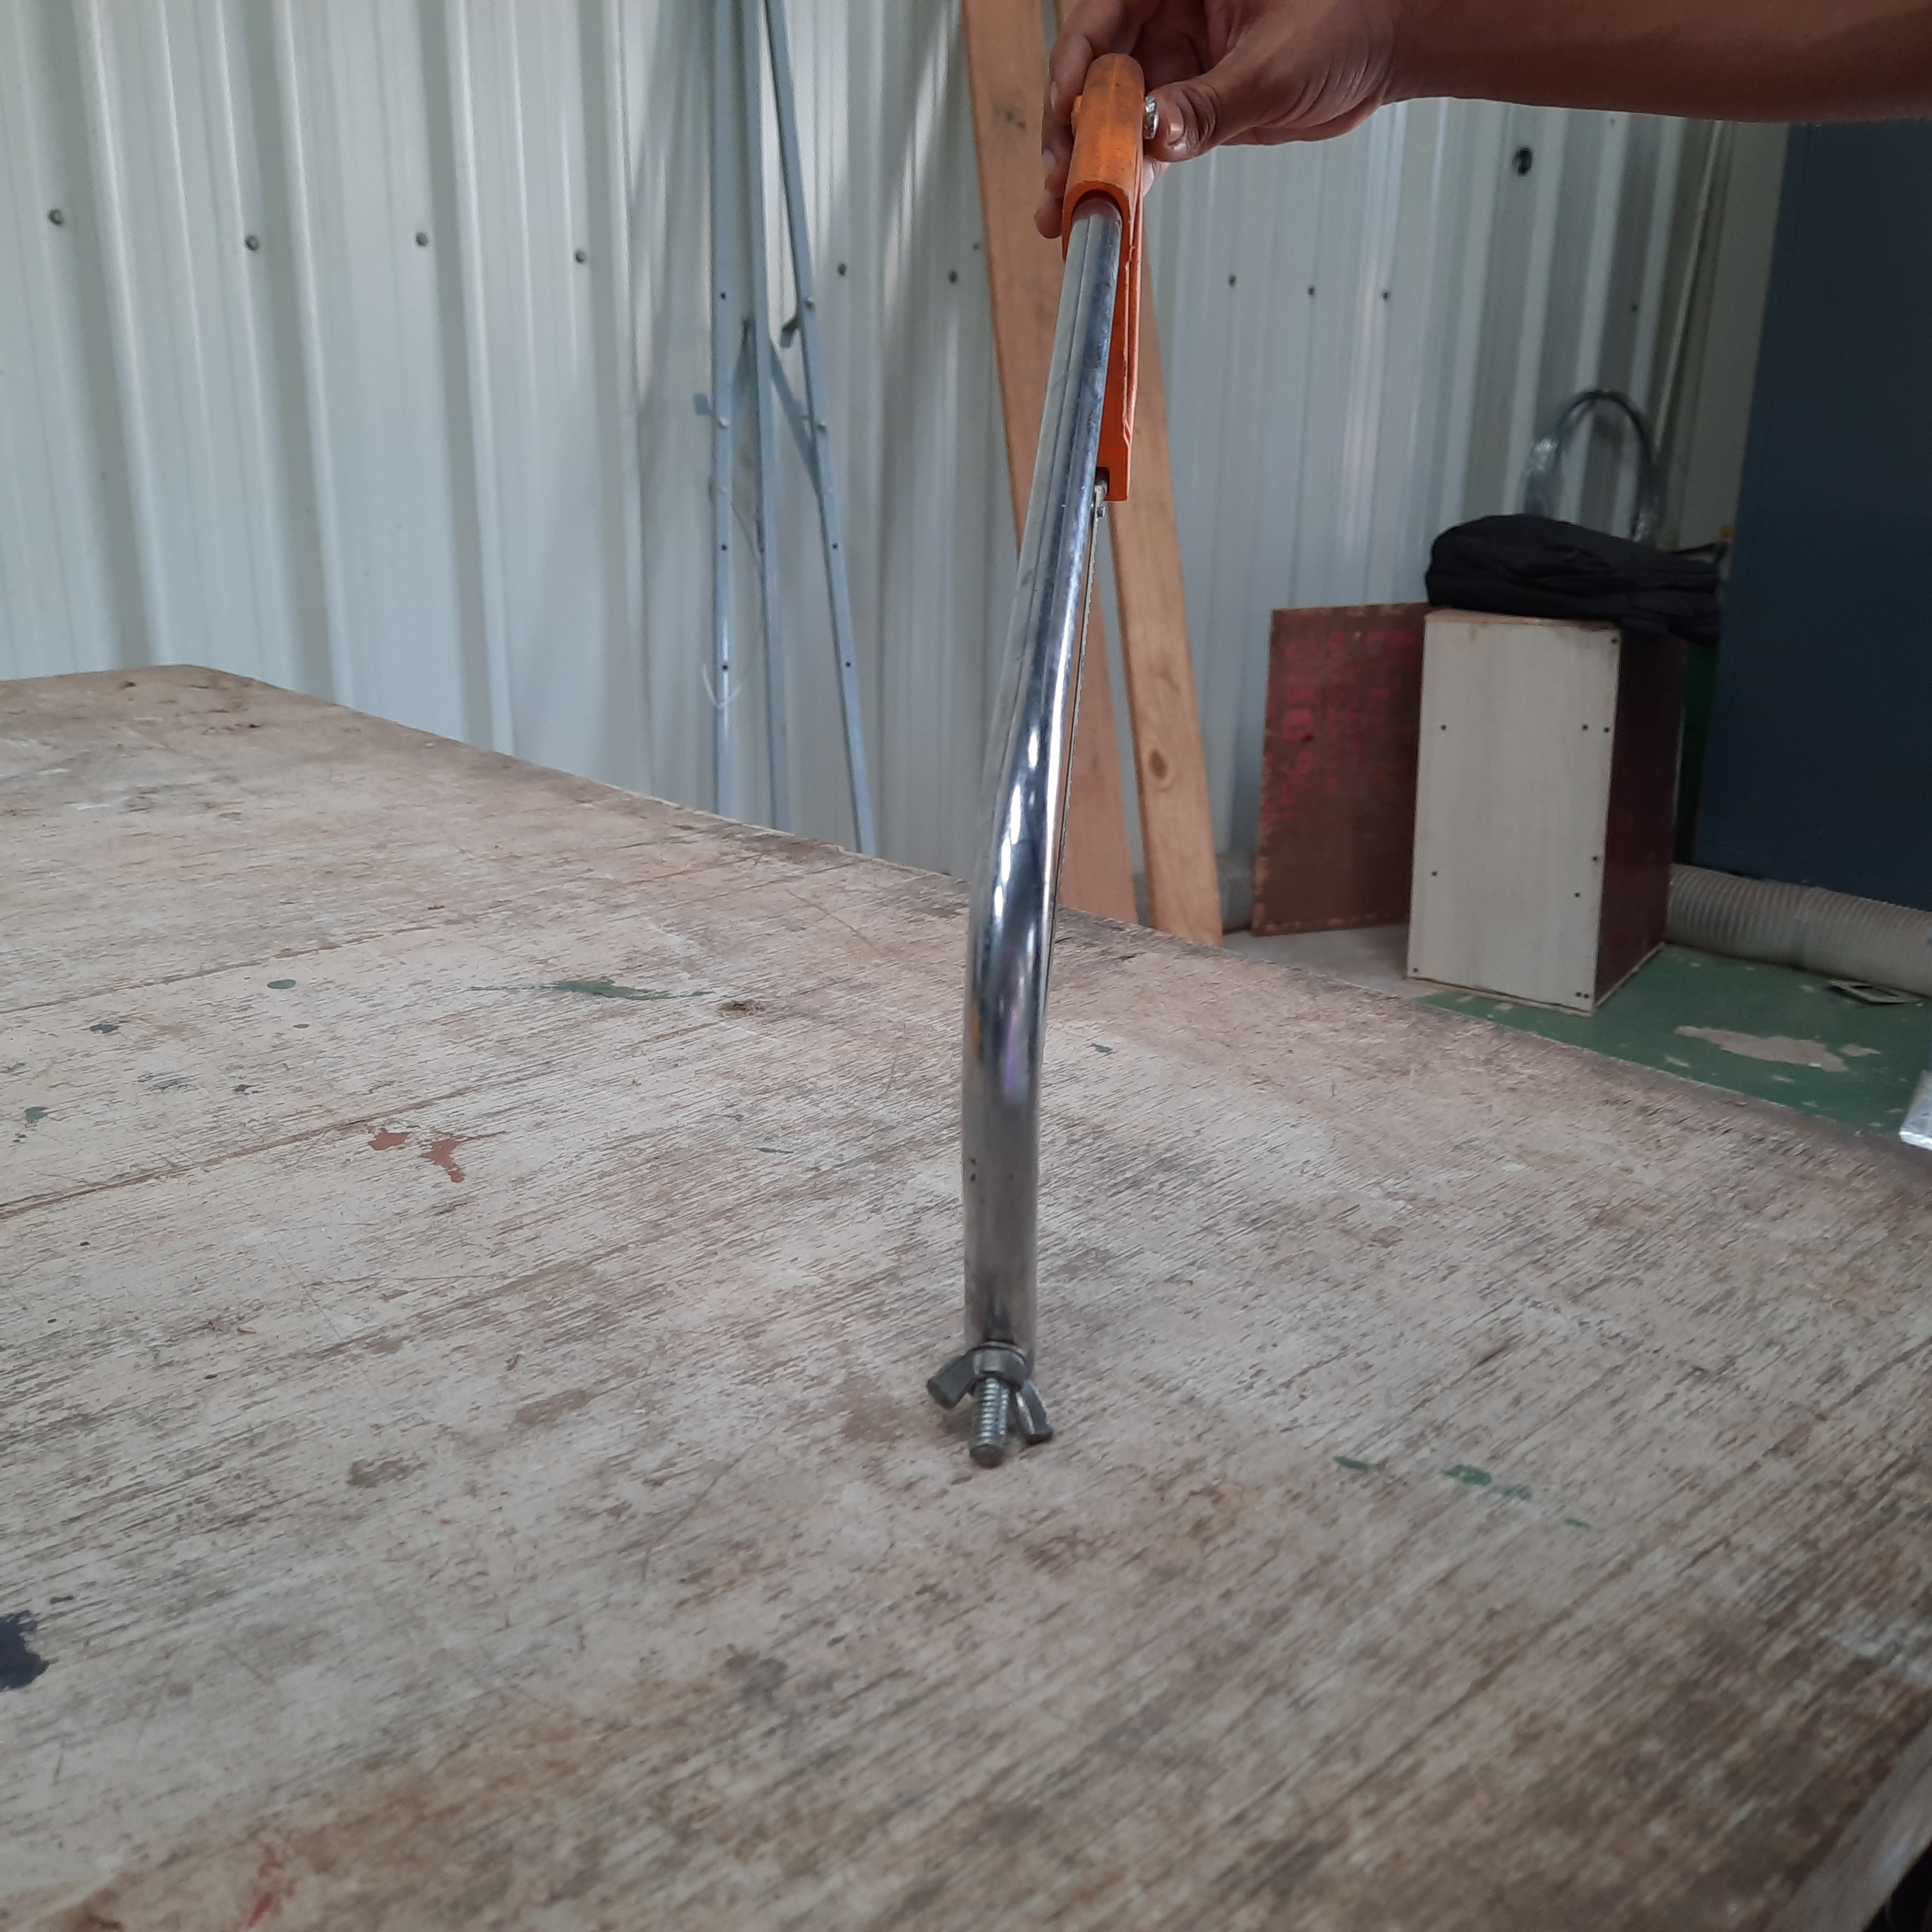Hexaframe: (885, 60, 1269, 1564)
